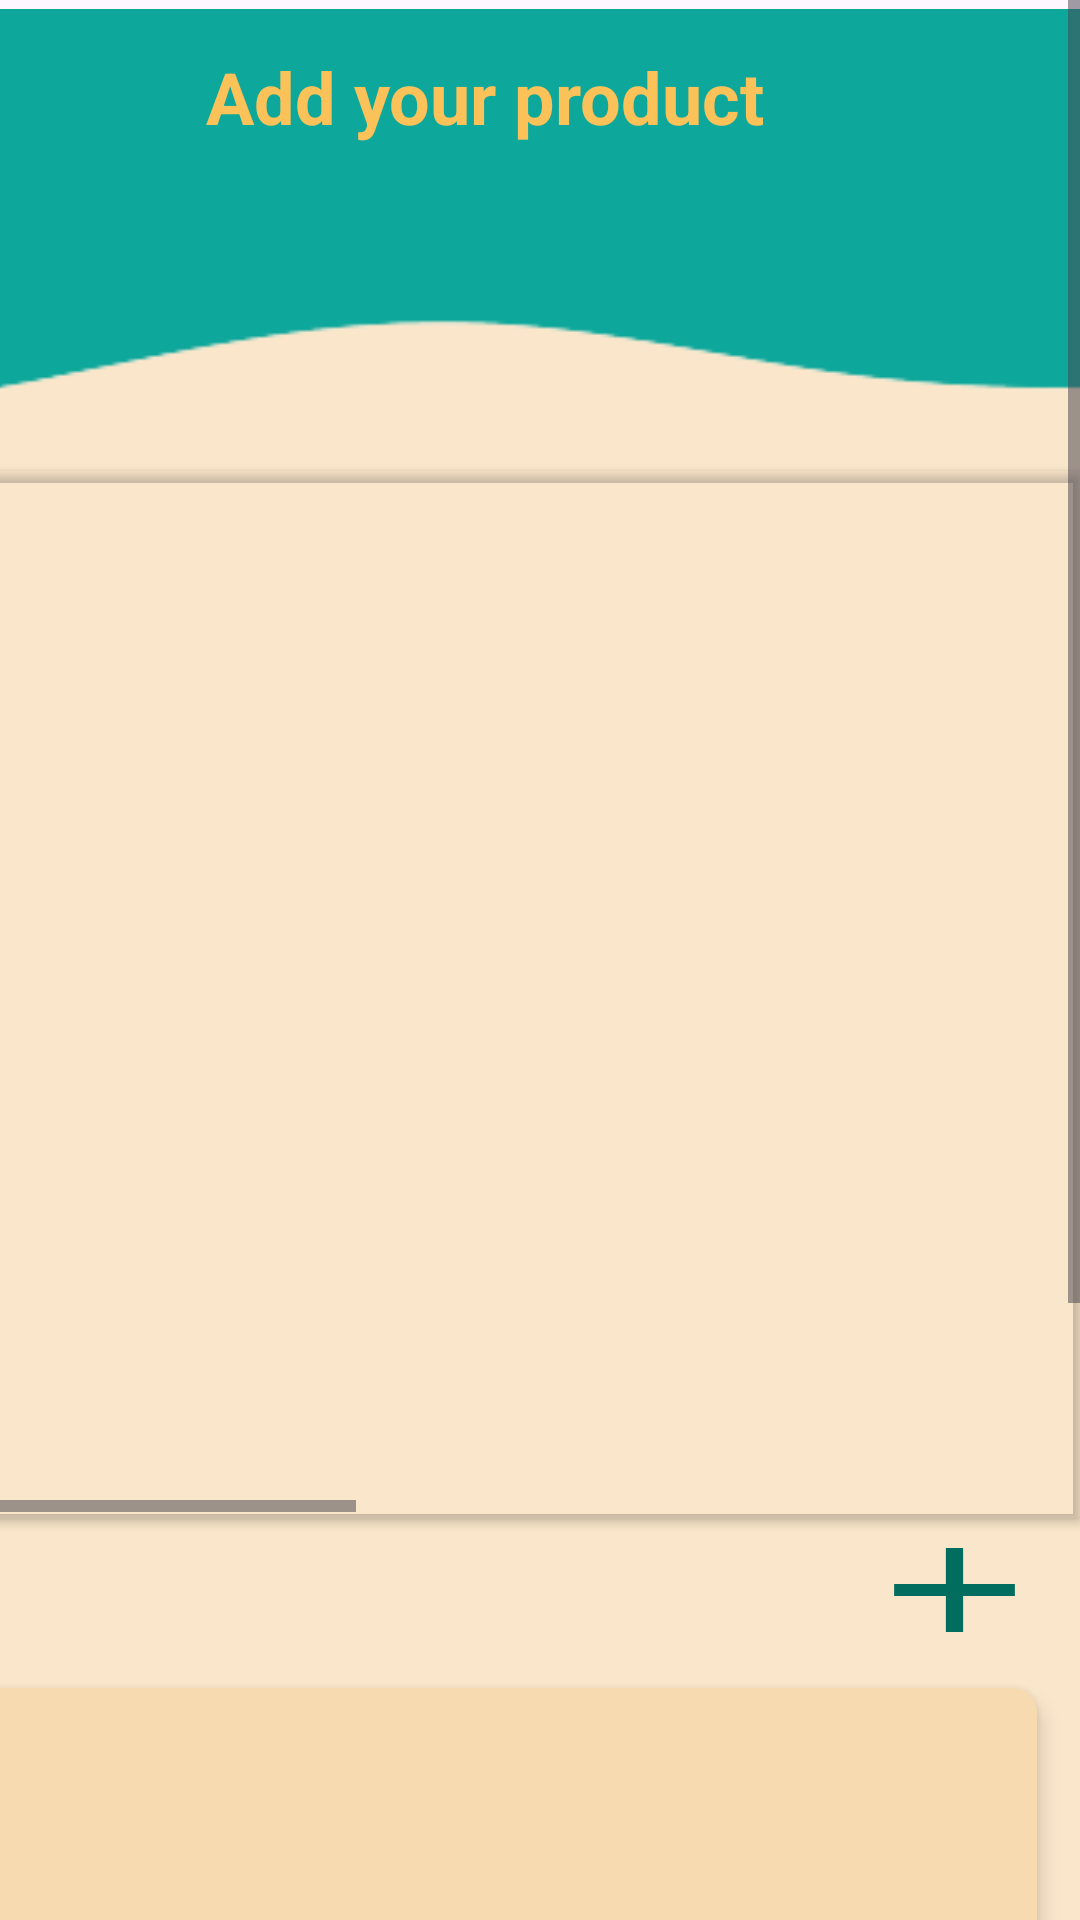

Locate icon controls on the screen. Image size 1080w x 1920h, boxes as (x1, y1, x2, y2).
add: (894, 1548, 1015, 1632)
